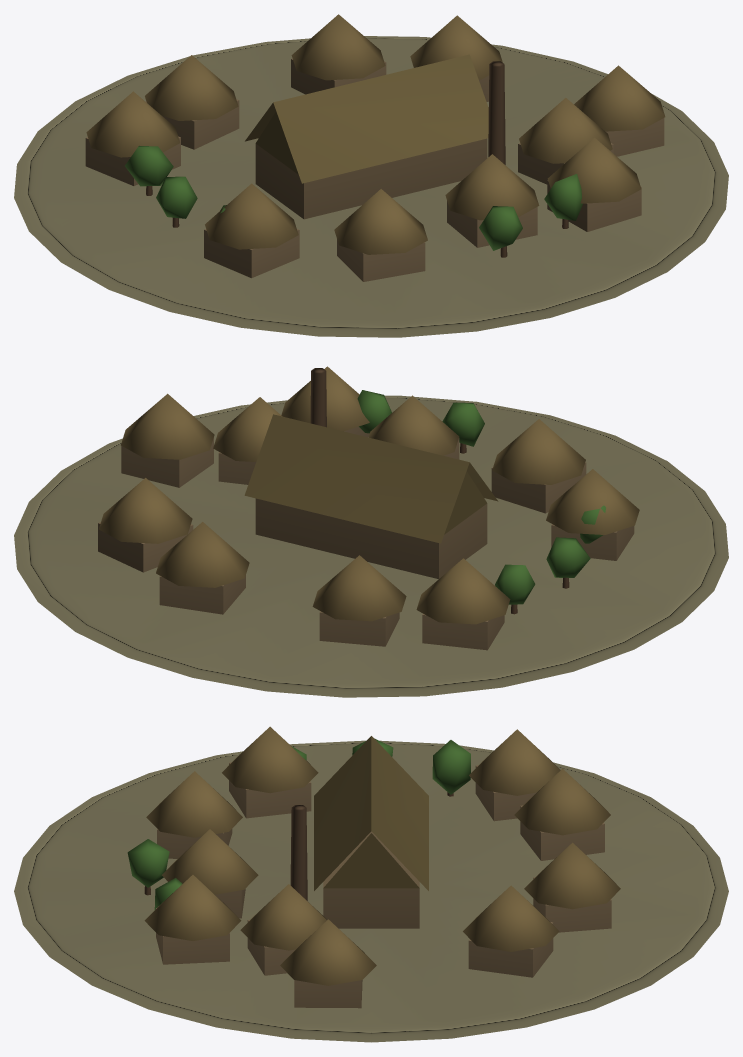
Rendered from settlement_0_0.glb.
The picture shows the model from 3 angles, top to bottom: view 1: azimuth 30°, elevation 25°; view 2: azimuth 150°, elevation 25°; view 3: azimuth 270°, elevation 25°; orthographic projection.
Visible parts, largest first — view 1: part_0; view 2: part_0; view 3: part_0.
Part boxes in pixels (bbox=[...]): part_0: bbox=[14, 14, 728, 337]; part_0: bbox=[14, 366, 728, 697]; part_0: bbox=[14, 726, 728, 1042].
Size of the model in its own units: 30.8 by 6.04 by 30.8.
